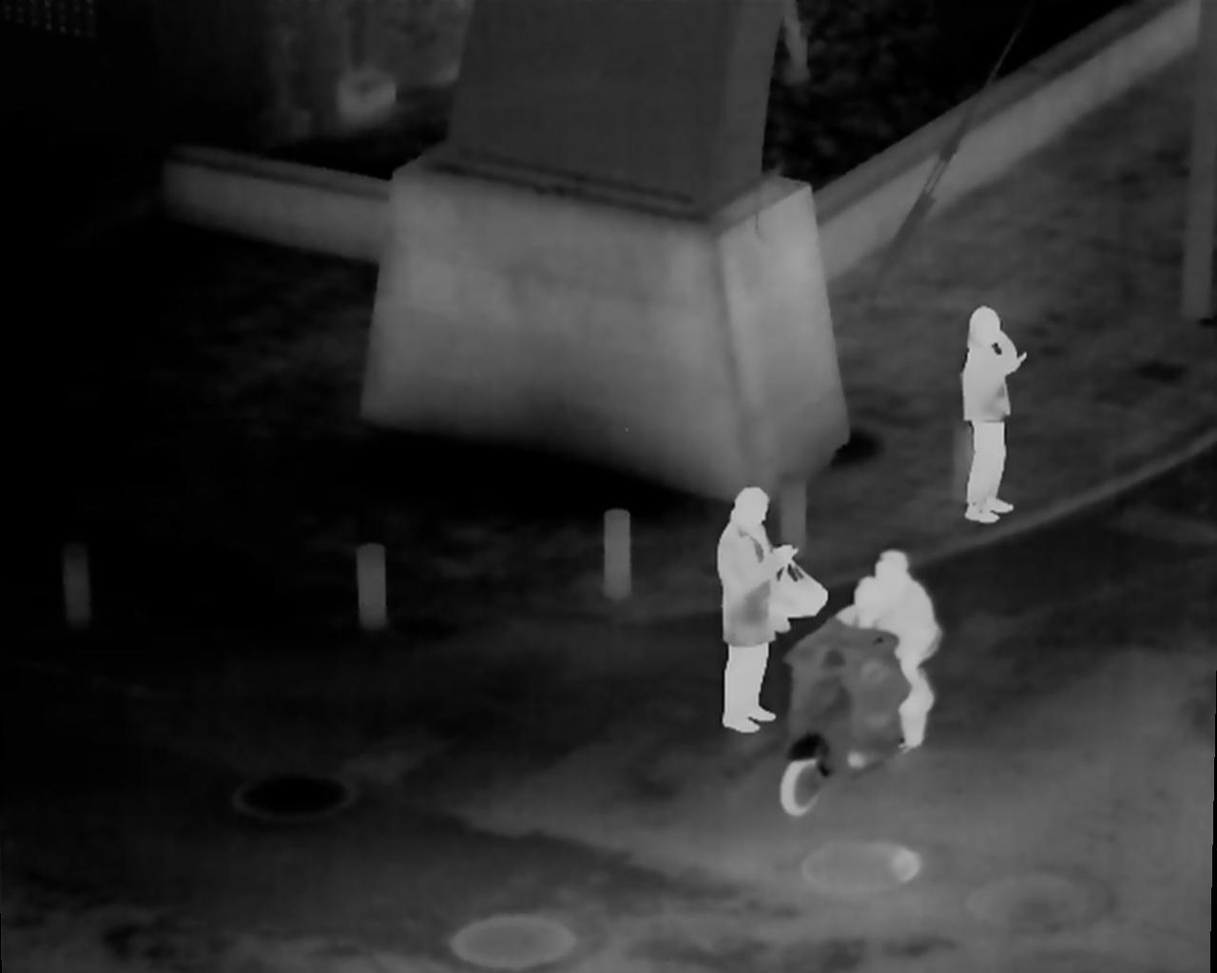person: (823, 544, 937, 792), (716, 486, 796, 749), (961, 306, 1025, 531)
